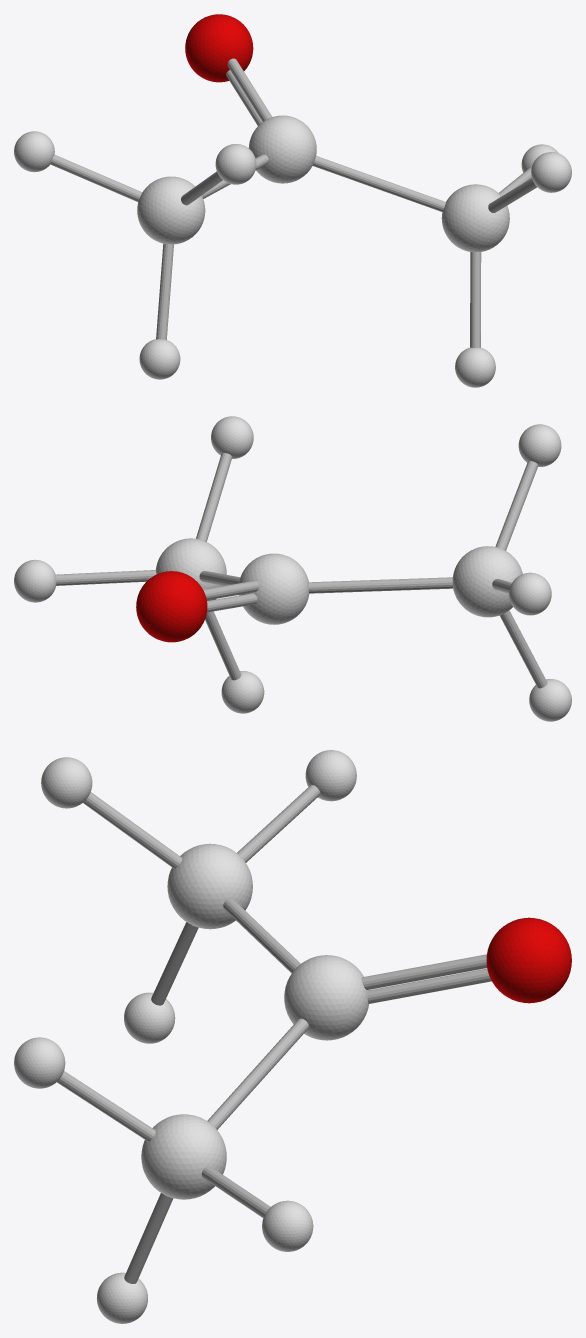
The picture shows the model from 3 angles, top to bottom: view 1: azimuth 30°, elevation 25°; view 2: azimuth 150°, elevation 25°; view 3: azimuth 270°, elevation 25°; orthographic projection. The views are drawn at different scales.
Parts seen in each view (by area): view 1: world; view 2: world; view 3: world.
Boxes of the visible parts, box(x1,y1,x2,y2) form: world: box(14, 14, 571, 387); world: box(14, 416, 571, 721); world: box(14, 750, 571, 1323).
Bounding box in the file's own units: 4.45 × 2.59 × 3.26.
